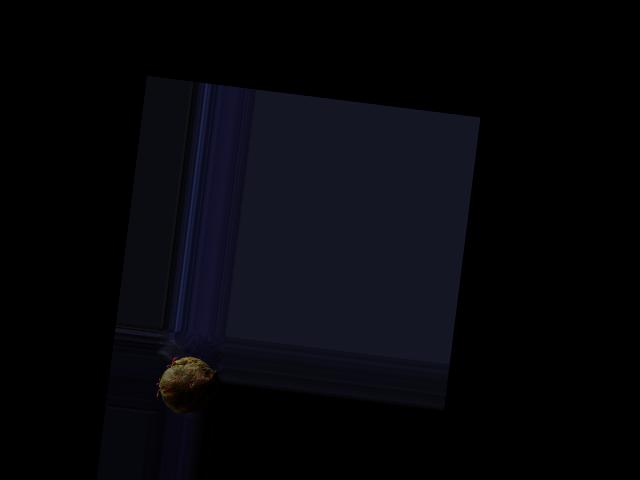beet: (153, 352, 222, 417)
